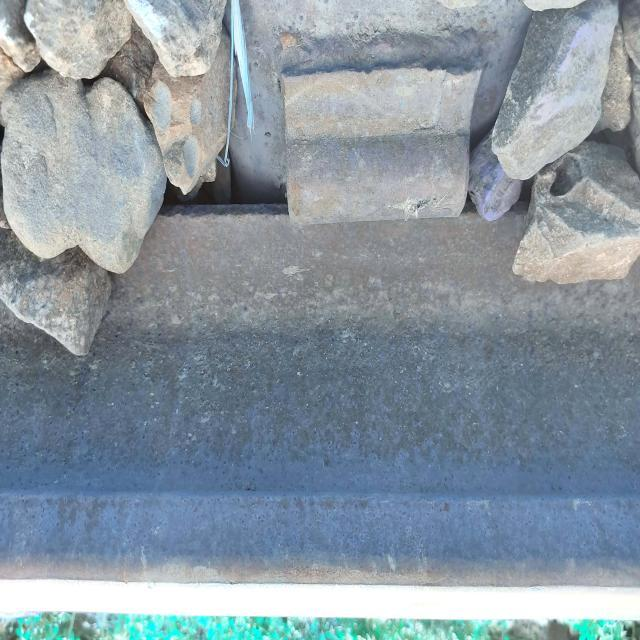Missing Fastener: (259, 17, 498, 291)
